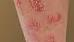plaque psoriasis: (28, 18, 57, 42), (27, 0, 44, 12), (46, 12, 61, 24), (15, 0, 23, 9)
